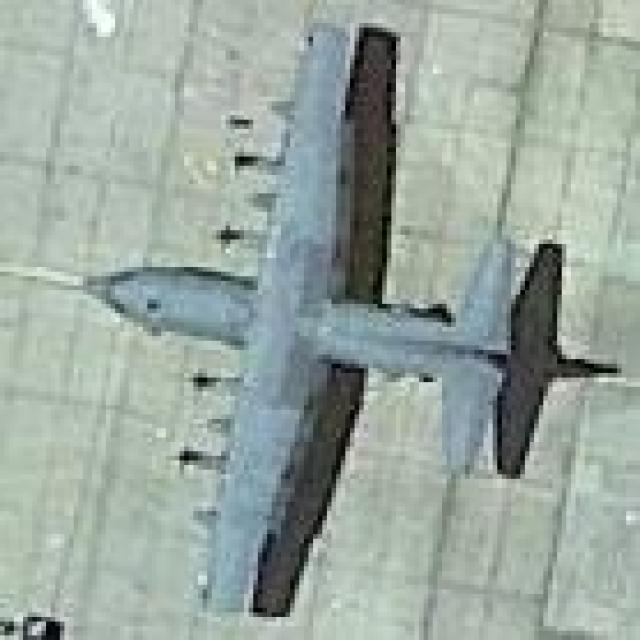C-130_TopDown: (77, 14, 620, 620)
